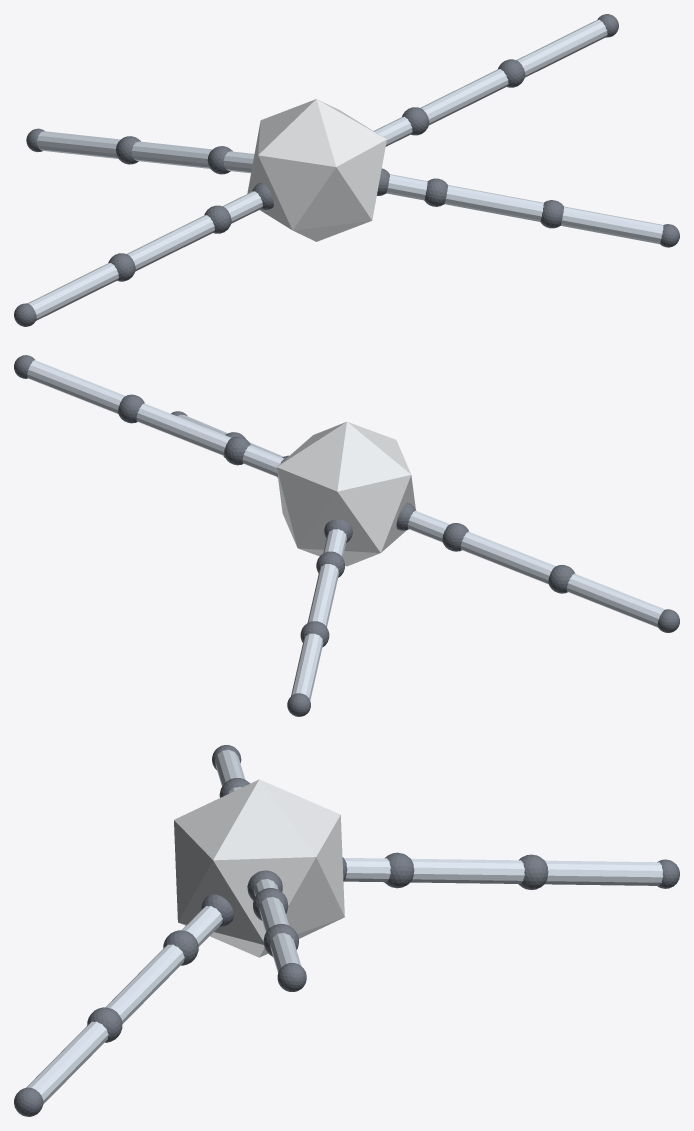
The model's file is quadruped_abs.glb.
3 views of the same model, one above another, from view 1: azimuth 30°, elevation 25°; view 2: azimuth 150°, elevation 25°; view 3: azimuth 270°, elevation 25° (orthographic). The views are drawn at different scales.
Visible parts, largest first — view 1: geom_0, geom_27, geom_25, geom_13, geom_20, geom_18, geom_11, geom_6, geom_4, geom_23, geom_9, geom_16 (+7 smaller); view 2: geom_0, geom_20, geom_13, geom_18, geom_11, geom_6, geom_4, geom_9, geom_16, geom_17, geom_19, geom_10 (+1 smaller); view 3: geom_0, geom_6, geom_4, geom_27, geom_25, geom_2, geom_23, geom_3, geom_5, geom_20, geom_13, geom_26 (+4 smaller).
Part boxes in pixels (<box>): geom_0: <box>247,99,386,241</box>; geom_27: <box>560,206,663,244</box>; geom_25: <box>444,185,543,221</box>; geom_13: <box>27,263,118,320</box>; geom_20: <box>516,19,607,77</box>; geom_18: <box>420,69,508,125</box>; geom_11: <box>127,215,214,271</box>; geom_6: <box>37,131,120,158</box>; geom_4: <box>132,141,212,168</box>; geom_23: <box>386,174,427,200</box>; geom_9: <box>222,191,262,223</box>; geom_16: <box>374,116,412,146</box>; geom_0: <box>276,422,415,566</box>; geom_20: <box>27,360,125,414</box>; geom_13: <box>567,573,664,627</box>; geom_18: <box>136,403,231,455</box>; geom_11: <box>461,531,555,584</box>; geom_6: <box>291,633,323,700</box>; geom_4: <box>307,564,338,626</box>; geom_9: <box>408,510,449,542</box>; geom_16: <box>242,445,284,476</box>; geom_17: <box>224,436,250,465</box>; geom_19: <box>118,394,144,423</box>; geom_10: <box>442,523,468,551</box>; geom_0: <box>174,779,344,957</box>; geom_6: <box>545,860,662,885</box>; geom_4: <box>410,858,524,883</box>; geom_27: <box>26,1021,108,1103</box>; geom_25: <box>105,944,184,1023</box>; geom_2: <box>343,858,390,882</box>; geom_23: <box>182,906,222,946</box>; geom_3: <box>384,852,414,888</box>; geom_5: <box>518,854,548,889</box>; geom_20: <box>270,933,301,972</box>; geom_13: <box>215,749,245,786</box>; geom_26: <box>87,1007,122,1042</box>.
Bounding box in the file's own units: 0.7361 × 0.1602 × 0.542.
